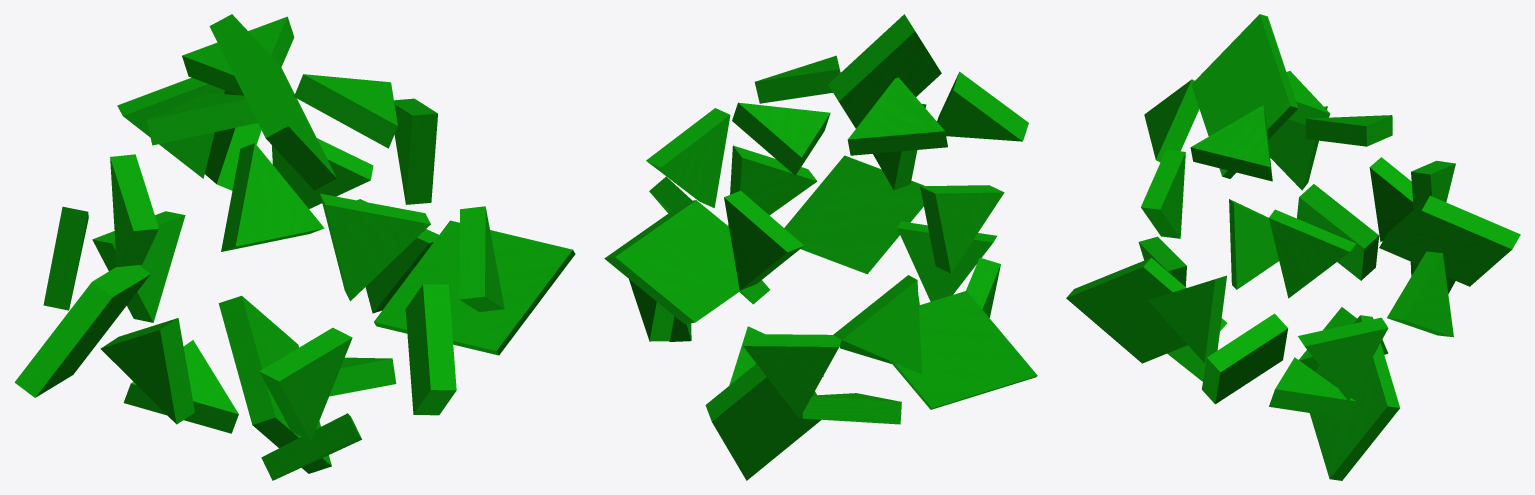
The model's file is qitae_rich.obj.
3 views of the same model, side by side, from view 1: azimuth 30°, elevation 25°; view 2: azimuth 150°, elevation 25°; view 3: azimuth 270°, elevation 25° (orthographic). The views are drawn at different scales.
Parts seen in each view (by area): view 1: Cube.002; view 2: Cube.002; view 3: Cube.002.
Boxes of the visible parts, x1,y1,x2,y2 form: Cube.002: (14,14,575,480); Cube.002: (604,14,1037,480); Cube.002: (1066,14,1520,480).
Bounding box in the file's own units: 1.78 × 1.79 × 1.77.
